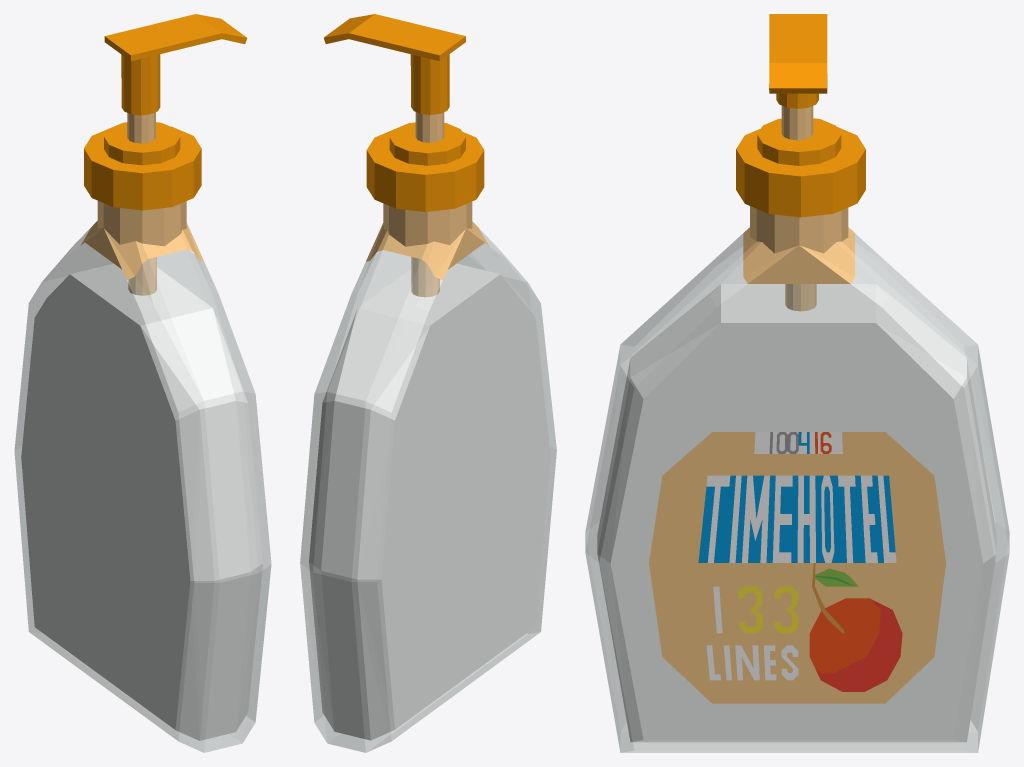
File: Shampoo.glb
The picture shows the model from 3 angles, left to right: view 1: azimuth 30°, elevation 25°; view 2: azimuth 150°, elevation 25°; view 3: azimuth 270°, elevation 25°; orthographic projection. The views are drawn at different scales.
Parts seen in each view (by area): view 1: group506945419; view 2: group506945419; view 3: group506945419.
Boxes of the visible parts, box(x1,y1,x2,y2) form: group506945419: box(14, 14, 271, 752); group506945419: box(300, 14, 556, 752); group506945419: box(585, 14, 1009, 752).
Bounding box in the file's own units: 0.6402 × 2.81 × 1.51.
